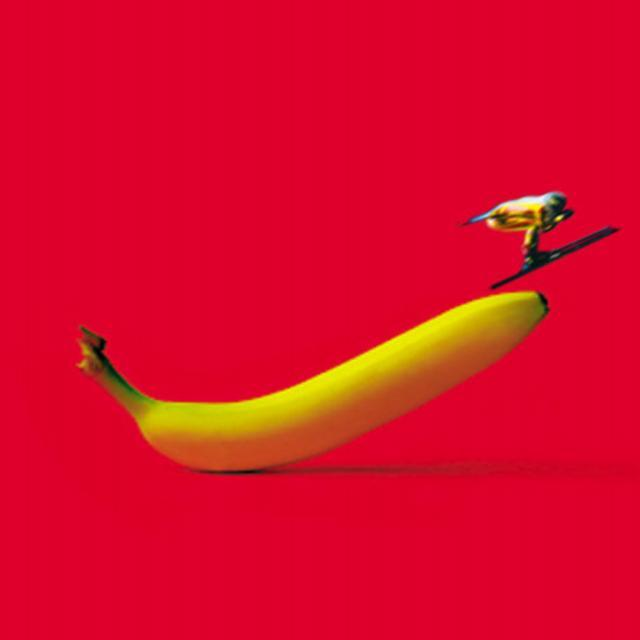Banana: (79, 289, 548, 471)
